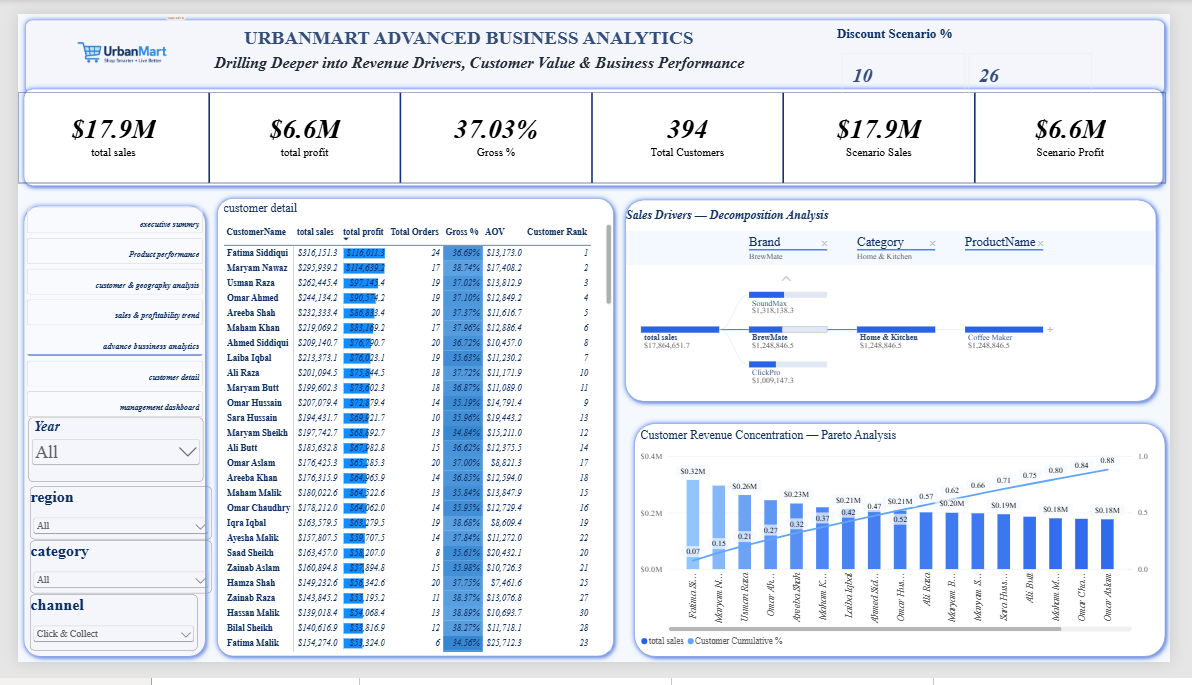

The dashboard page shown, as its layout file describes it:
{"tool":"powerbi","page":{"name":"advance bussiness  analytics","canvas":[1920,1080],"ordinal":4},"visuals":[{"type":"shape","box":[2.4,0,1918.3,143.2],"z":0},{"type":"textbox","box":[213.9,2.4,1072.5,58.5],"z":0,"group":"g2"},{"type":"shape","box":[0,114.1,1918.3,181.3],"z":0,"group":"g1"},{"type":"shape","box":[322.1,298.2,680,782.6],"z":0,"group":"g3"},{"type":"shape","box":[1001.3,299.3,904.3,355.5],"z":0,"group":"g4"},{"type":"textbox","box":[171.8,65.4,1193,65.8],"z":1000,"group":"g2"},{"type":"group","id":"g1","title":"Group 1","box":[0,114.1,1918.3,181.3],"z":1000},{"type":"cardVisual","fields":{"Data":["kpis.total net sales","kpis.total profit","kpis.Gross margin%","kpis.Total Customers","kpis.Scenario Sales","kpis.Scenario Profit"]},"box":[0,128.1,1918.3,152.7],"z":1000,"group":"g1"},{"type":"decompositionTreeVisual","title":"Sales Drivers — Decomposition Analysis","fields":{"Analyze":["kpis.total sales"],"ExplainBy":["Dim_Product.Brand","Dim_Product.Category","Dim_Product.ProductName","Dim_Store.Region","Dim_Store.StoreName","Fact_Sales.Channel","Dim_Product.SubCategory"]},"box":[997.3,310.3,912.8,328.6],"z":1000,"group":"g4"},{"type":"pivotTable","title":"customer detail","fields":{"Rows":["Dim_Customer.CustomerName"],"Values":["kpis.total sales","kpis.total profit","kpis.Total Orders","kpis.Gross %","kpis.AOV","kpis.Customer Rank"]},"box":[343.3,314.3,646.6,749.2],"z":1000,"group":"g3"},{"type":"shape","box":[1016.4,672.8,904.3,408.2],"z":2003,"group":"g5"},{"type":"lineClusteredColumnComboChart","title":"Customer Revenue Concentration — Pareto Analysis","fields":{"Category":["Dim_Customer.CustomerName"],"Y":["kpis.total sales"],"Y2":["kpis.Customer Cumulative %"]},"box":[1036.3,690.4,847,369.8],"z":2011,"group":"g5"},{"type":"group","id":"g2","title":"Group 2","box":[171.8,2.4,1193,128.8],"z":3000},{"type":"slicer","title":"Discount Scenario %","fields":{"Values":["Discount Scenario.Discount Scenario"]},"box":[1364.7,19.1,448.6,112.1],"z":4000},{"type":"shape","box":[0,310.2,322.1,770.7],"z":5000},{"type":"group","id":"g3","title":"Group 3","box":[322.1,298.2,680,782.6],"z":6000},{"type":"group","id":"g4","title":"Group 4","box":[997.3,299.3,912.8,355.5],"z":7000},{"type":"group","id":"g5","title":"Group 5","box":[1016.4,672.8,904.3,408],"z":8000},{"type":"slicer","fields":{"Values":["DimDate.Year"]},"box":[16.7,672.8,291.1,107.4],"z":9000},{"type":"slicer","title":"region","fields":{"Values":["Dim_Store.Region"]},"box":[19.1,787.4,303,88.3],"z":10000},{"type":"slicer","title":"category","fields":{"Values":["Dim_Product.Category"]},"box":[19.1,878,303,88.3],"z":11000},{"type":"slicer","title":"channel","fields":{"Values":["Fact_Sales.Channel"]},"box":[19.1,966.3,279.2,93.1],"z":12000},{"type":"image","box":[23.9,0,298.2,143.2],"z":13000},{"type":"pageNavigator","box":[14.3,322.1,293.5,350.7],"z":13001}]}

Visuals, with their boxes in screenshot pixels (x1, y1, x2, y2), scaled from the page's 1920x1080 canvas onto the 1192x685 screenshot:
shape: bbox=(1, 0, 1191, 91)
textbox: bbox=(133, 2, 799, 39)
shape: bbox=(0, 72, 1191, 187)
shape: bbox=(200, 189, 622, 684)
shape: bbox=(622, 190, 1183, 415)
textbox: bbox=(107, 41, 847, 83)
"Group 1" group: bbox=(0, 72, 1191, 187)
cardVisual - kpis.total net sales x kpis.total profit: bbox=(0, 81, 1191, 178)
"Sales Drivers — Decomposition Analysis" decompositionTreeVisual: bbox=(619, 197, 1186, 405)
"customer detail" pivotTable: bbox=(213, 199, 615, 675)
shape: bbox=(631, 427, 1191, 684)
"Customer Revenue Concentration — Pareto Analysis" lineClusteredColumnComboChart: bbox=(643, 438, 1169, 672)
"Group 2" group: bbox=(107, 2, 847, 83)
"Discount Scenario %" slicer: bbox=(847, 12, 1126, 83)
shape: bbox=(0, 197, 200, 684)
"Group 3" group: bbox=(200, 189, 622, 684)
"Group 4" group: bbox=(619, 190, 1186, 415)
"Group 5" group: bbox=(631, 427, 1191, 684)
slicer - DimDate.Year: bbox=(10, 427, 191, 495)
"region" slicer: bbox=(12, 499, 200, 555)
"category" slicer: bbox=(12, 557, 200, 613)
"channel" slicer: bbox=(12, 613, 185, 672)
image: bbox=(15, 0, 200, 91)
pageNavigator: bbox=(9, 204, 191, 427)
